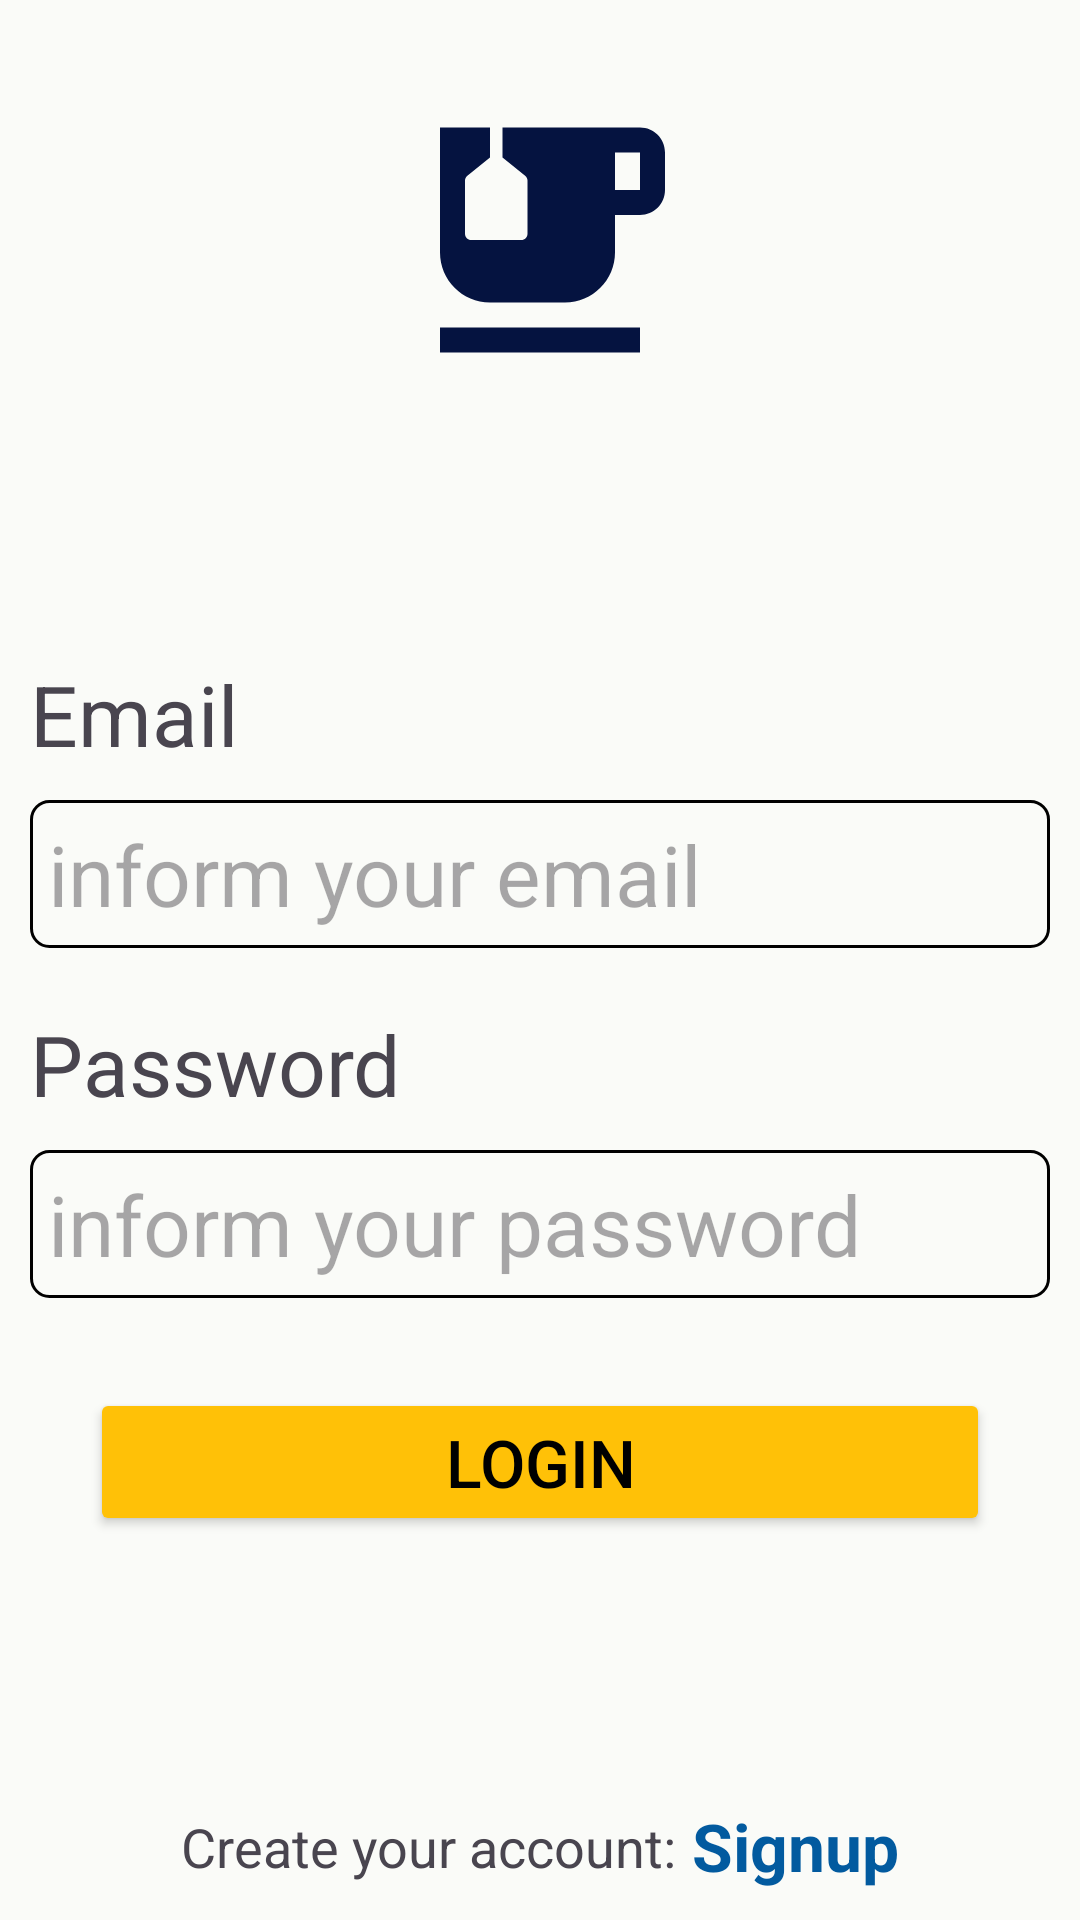

Named icons in this screenshot (1080 × 1920) and their centers, point (x, y):
emoji food beverage: point (552, 240)
